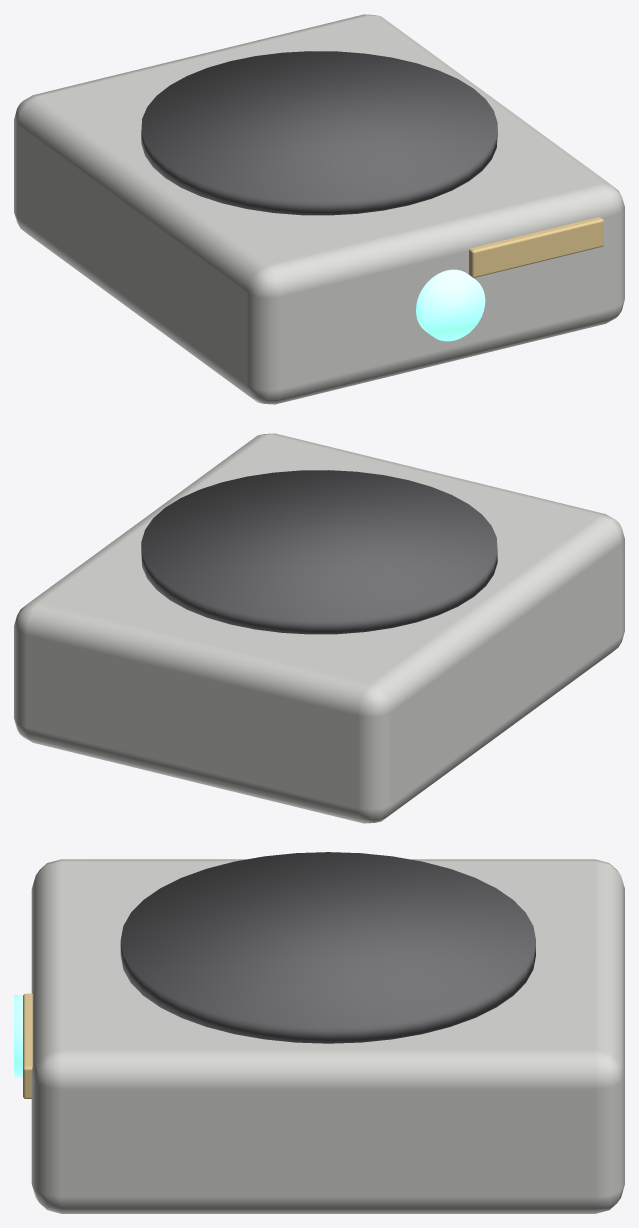
File: magnetic_stirrer.gltf
3 renders of one model, top to bottom at view 1: azimuth 30°, elevation 25°; view 2: azimuth 150°, elevation 25°; view 3: azimuth 270°, elevation 25°, orthographic. The views are drawn at different scales.
Visible parts, largest first — view 1: Housing, Plate, Badge, Dial; view 2: Housing, Plate; view 3: Housing, Plate, Badge, Dial.
Part boxes in pixels (x1=…): Housing: x1=14, y1=14, x2=624, y2=404; Plate: x1=141, y1=51, x2=497, y2=215; Badge: x1=469, y1=217, x2=603, y2=277; Dial: x1=416, y1=269, x2=485, y2=341; Housing: x1=14, y1=433, x2=624, y2=823; Plate: x1=141, y1=470, x2=497, y2=634; Housing: x1=31, y1=859, x2=624, y2=1213; Plate: x1=120, y1=852, x2=535, y2=1043; Badge: x1=23, y1=993, x2=32, y2=1098; Dial: x1=14, y1=995, x2=23, y2=1077.
Size of the model in its own units: 0.17 by 0.066 by 0.206.
